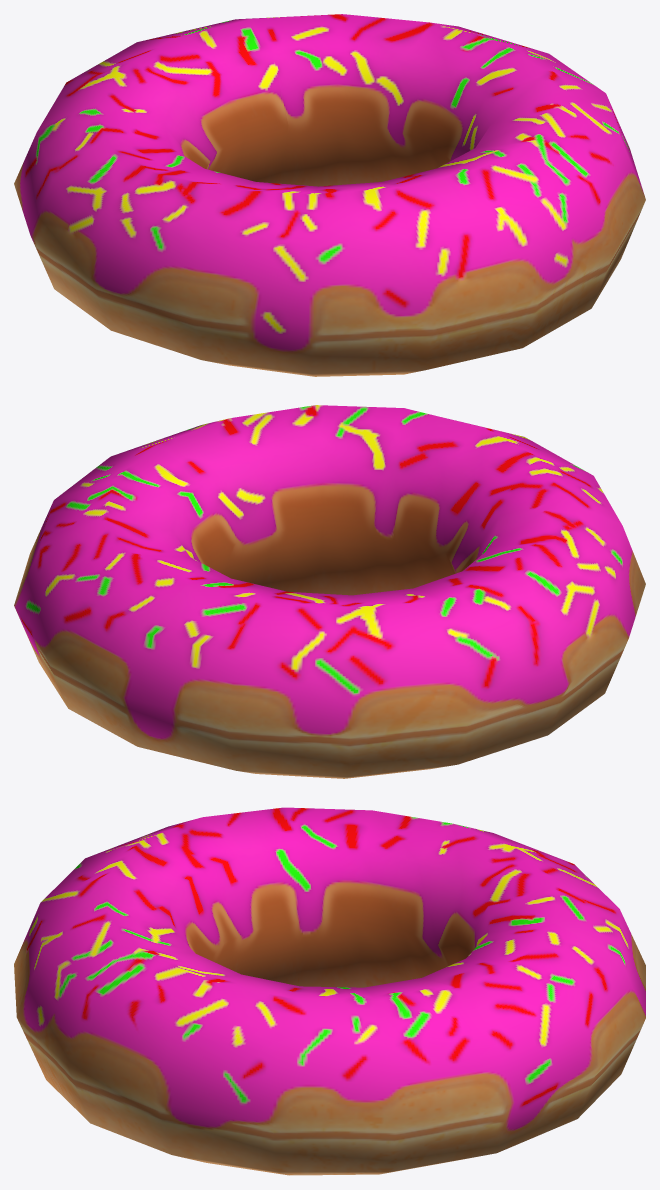
File: BuffetDesserts02_11.FBX
3 views of the same model, one above another, from view 1: azimuth 30°, elevation 25°; view 2: azimuth 150°, elevation 25°; view 3: azimuth 270°, elevation 25° (orthographic).
Parts seen in each view (by area): view 1: BuffetDesserts02_11; view 2: BuffetDesserts02_11; view 3: BuffetDesserts02_11.
Part boxes in pixels (left/top/right/bottom): BuffetDesserts02_11: left=14, top=14, right=645, bottom=376; BuffetDesserts02_11: left=14, top=405, right=645, bottom=778; BuffetDesserts02_11: left=14, top=807, right=645, bottom=1175.
Size of what is drawn, in the model's own units: 0.1586 by 0.0534 by 0.1607.
